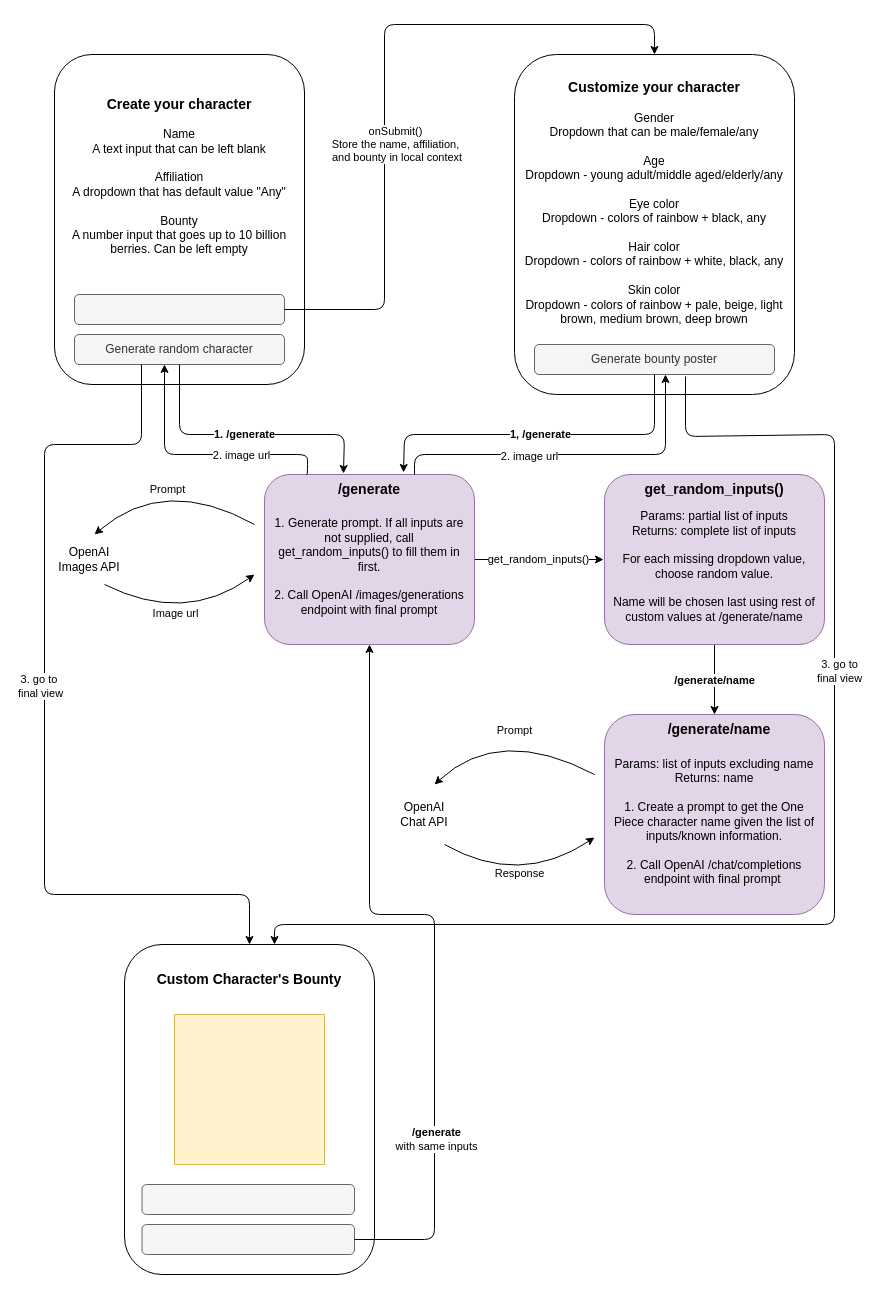
Image size: 879x1292. Some labels were removed from this diagram. Each missing label, with the box of its shape:
Next: (74, 294, 284, 324)
Re-generate this bounty poster: (141, 1224, 354, 1254)
Start over: (141, 1184, 354, 1214)
